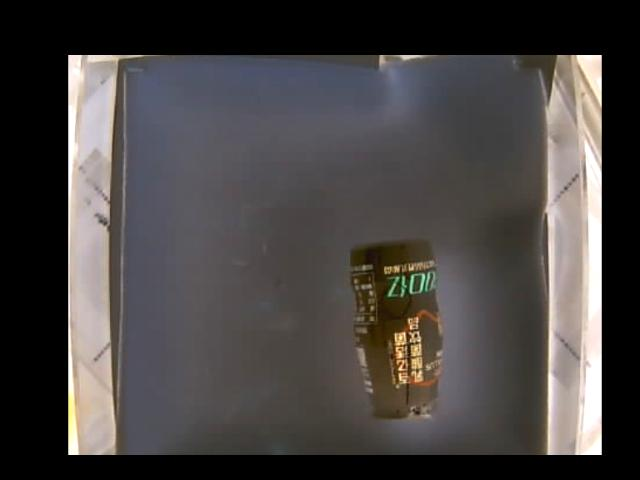Bottle: (348, 238, 440, 420)
